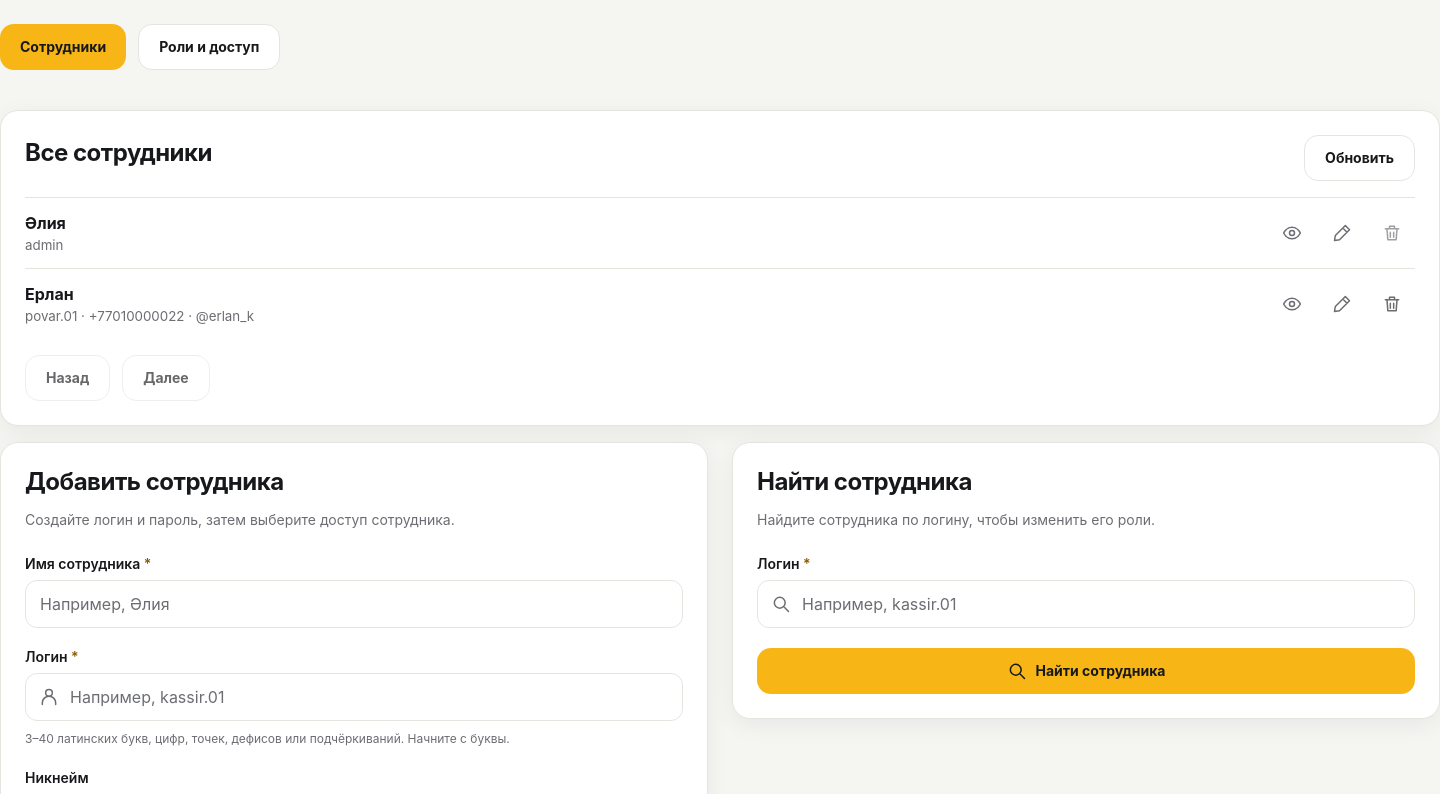
Scenario: карточка сотрудника показывает контакты, роли и статус; блокировка
Click the button named "Просмотр: Ерлан" at {"x": 1292, "y": 304}, box [1269,281,1315,327]
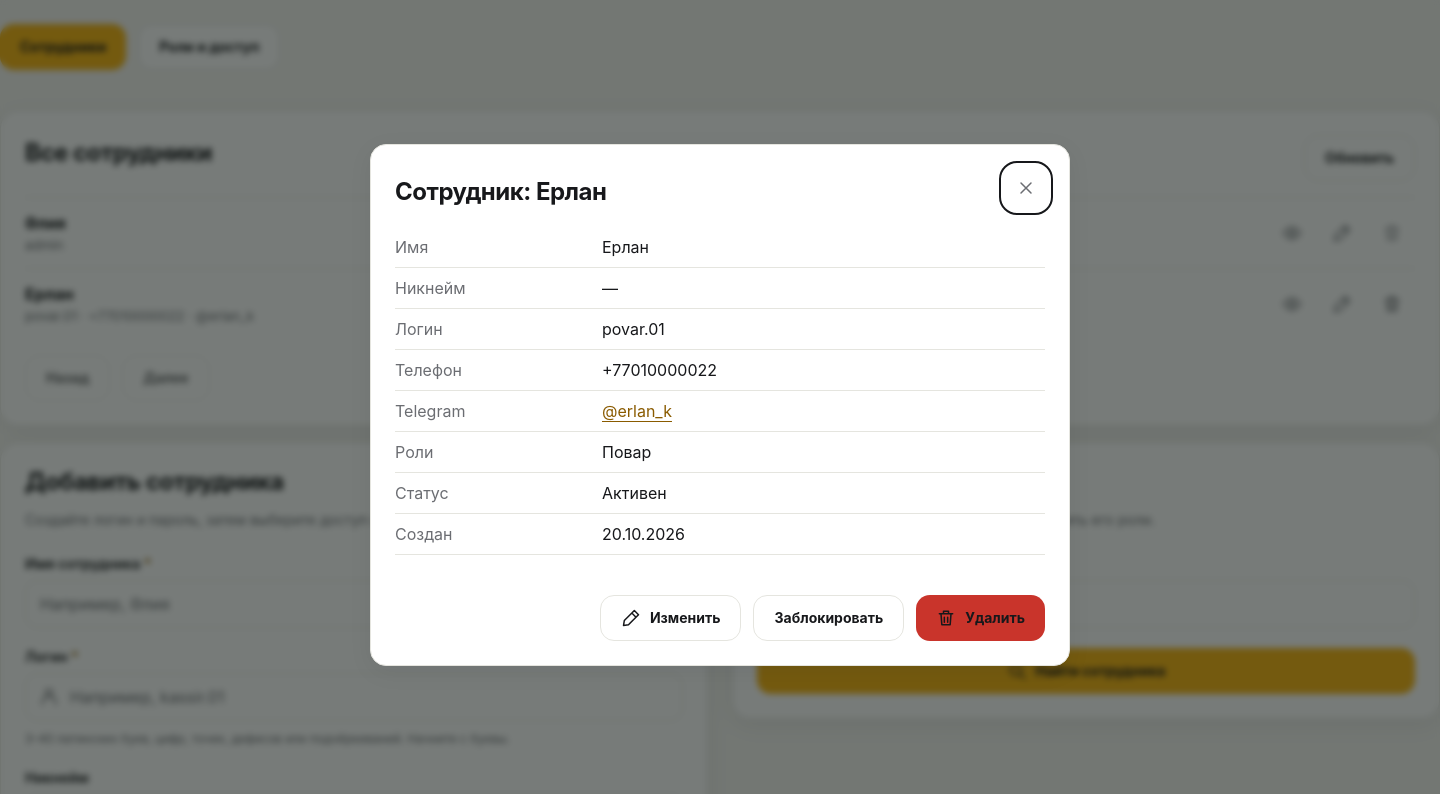
Check: the dialog shows "+77010000022", box [602,360,717,380]
Check: the dialog shows "Повар", box [602,442,651,462]
Check: the dialog shows "Активен", box [602,483,667,503]
Click the button "Заблокировать" at {"x": 829, "y": 618}, box [754,595,904,641]
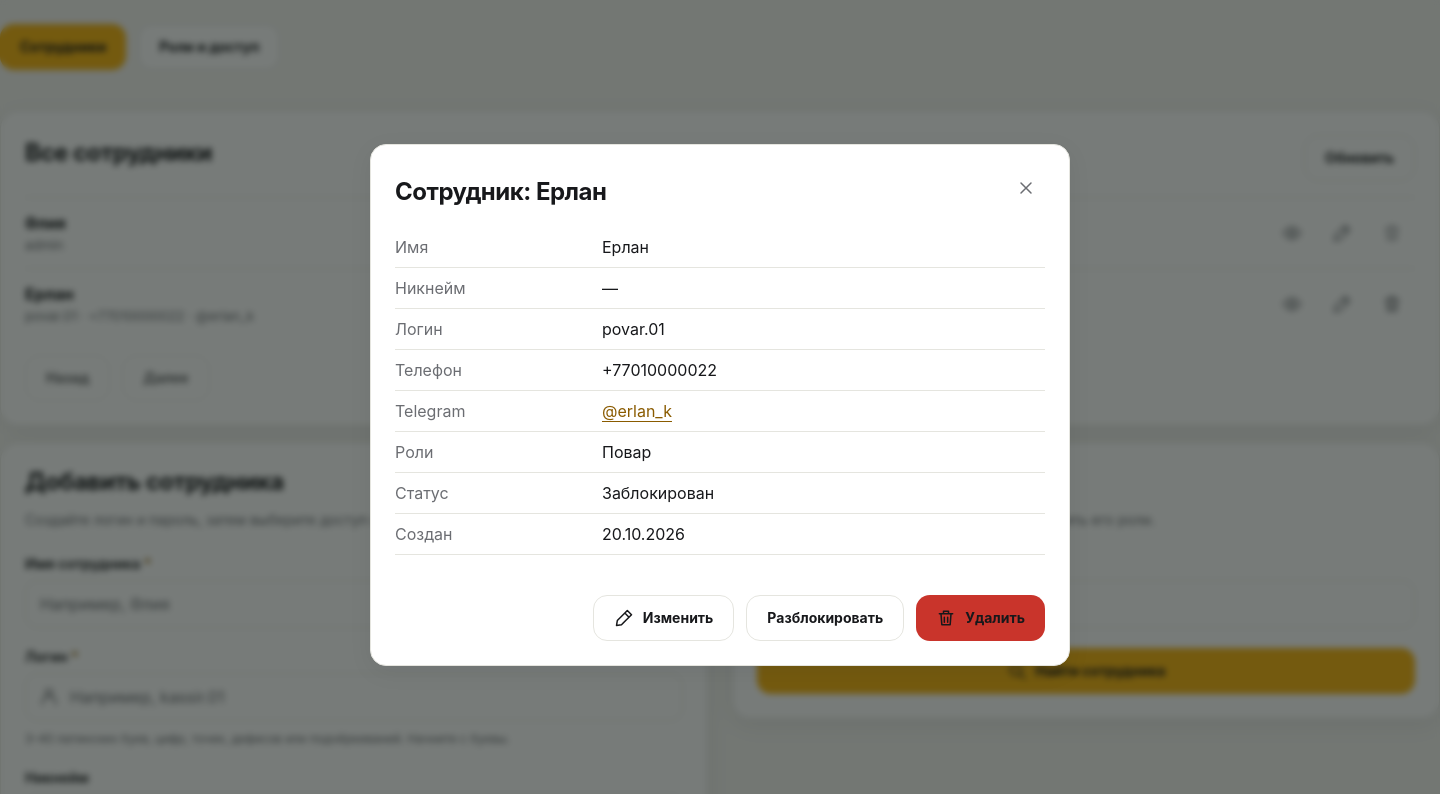
Check: the text "Заблокирован" is shown, box [602,483,714,503]
Check: the button "Разблокировать" is shown, box [746,595,904,641]
